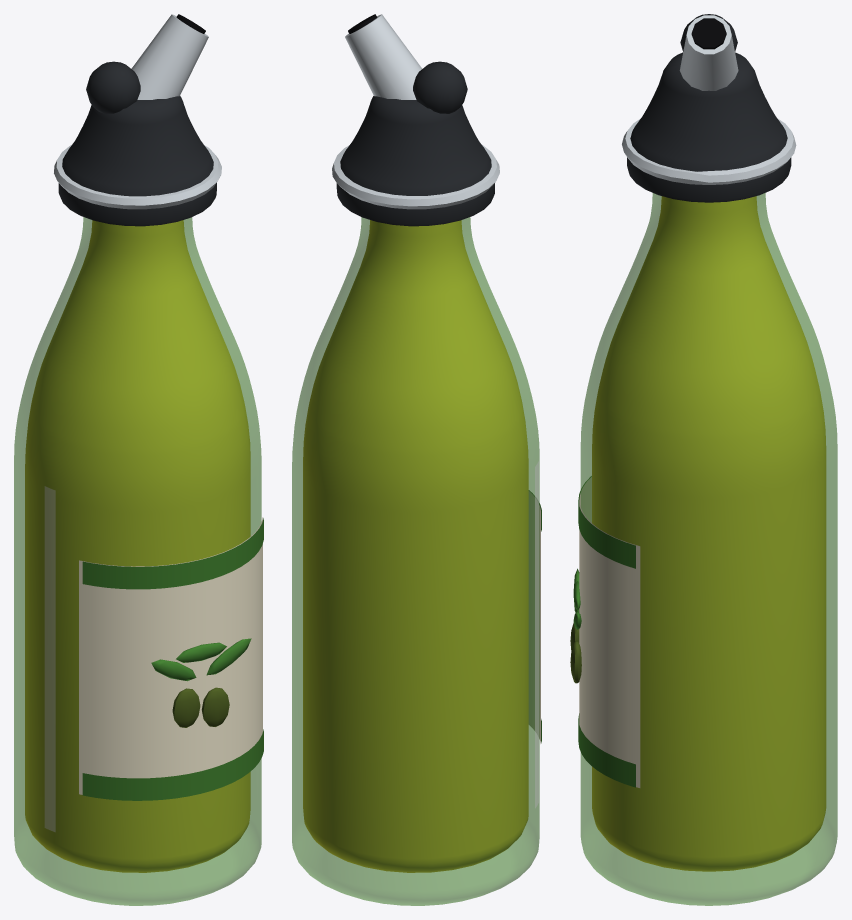
The model's file is oil_bottle.glb.
3 views of the same model, side by side, from view 1: azimuth 30°, elevation 25°; view 2: azimuth 150°, elevation 25°; view 3: azimuth 270°, elevation 25° (orthographic). The views are drawn at different scales.
Parts seen in each view (by area): view 1: OilBottle; view 2: OilBottle; view 3: OilBottle.
Boxes of the visible parts, left/top/right/bottom form: OilBottle: left=14, top=14, right=263, bottom=905; OilBottle: left=292, top=14, right=541, bottom=905; OilBottle: left=570, top=14, right=837, bottom=905.
Size of the model in its own units: 2.5 by 9.31 by 2.6.
